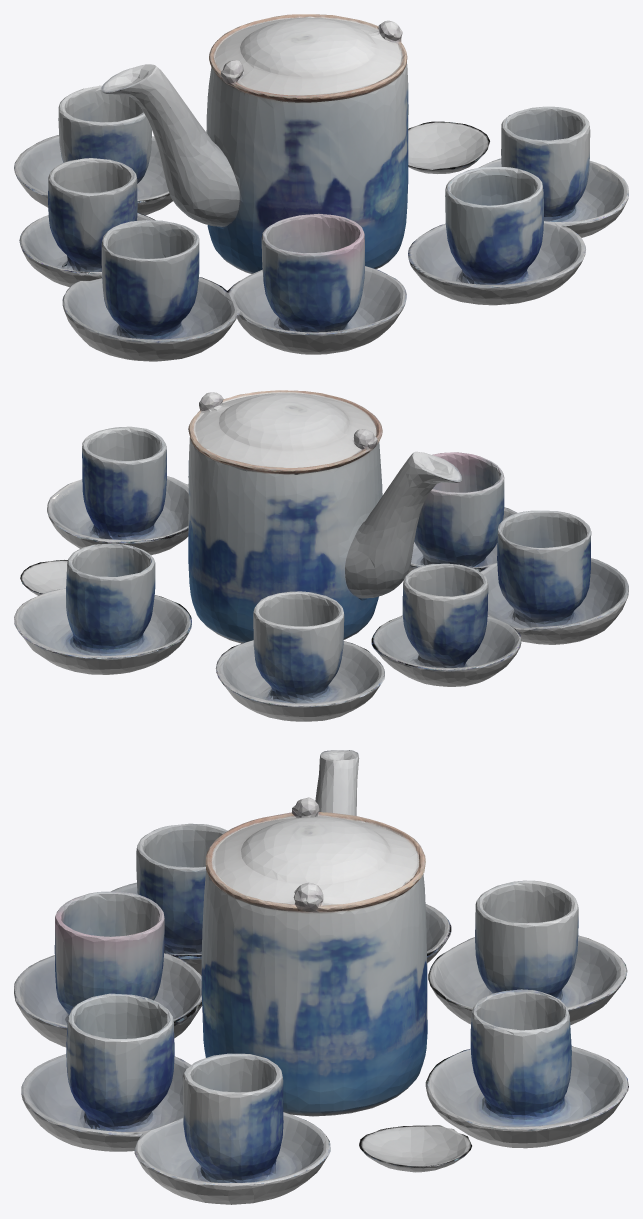
3 renders of one model, top to bottom at view 1: azimuth 30°, elevation 25°; view 2: azimuth 150°, elevation 25°; view 3: azimuth 270°, elevation 25°, orthographic. The views are drawn at different scales.
Parts seen in each view (by area): view 1: world; view 2: world; view 3: world.
Part boxes in pixels (x1,y1,x2,y2): world: [14, 14, 628, 361]; world: [14, 390, 628, 721]; world: [14, 750, 628, 1204].
Bounding box in the file's own units: 1 × 0.3673 × 0.8458.
1 material, 1 textured.
